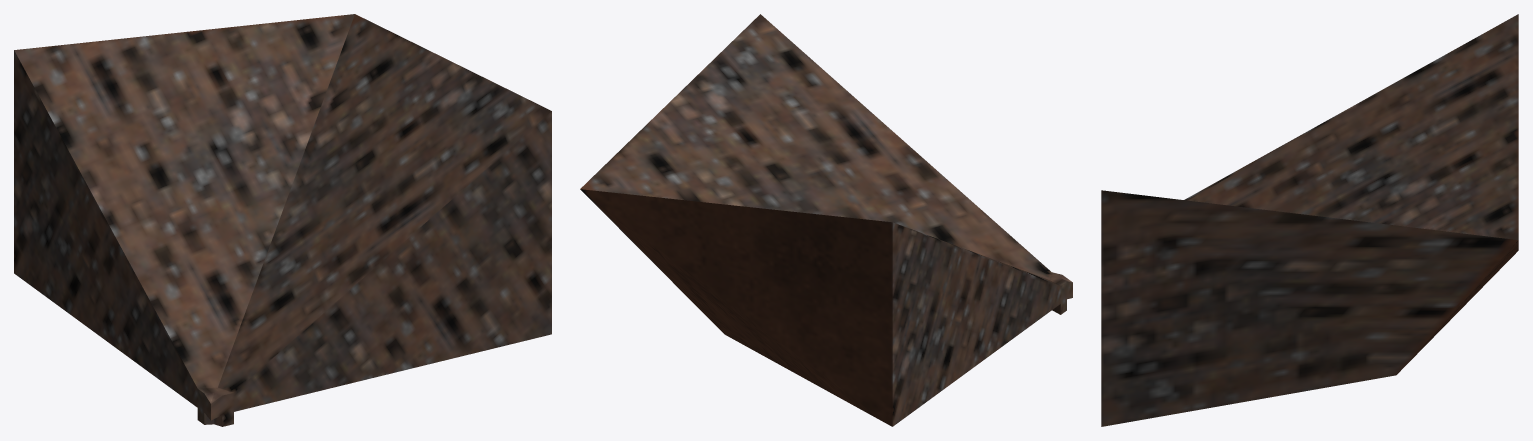
The model's file is L-shaped roof.fbx.
3 views of the same model, side by side, from view 1: azimuth 30°, elevation 25°; view 2: azimuth 150°, elevation 25°; view 3: azimuth 270°, elevation 25° (orthographic). The views are drawn at different scales.
Visible parts, largest first — view 1: Telhado em L; view 2: Telhado em L; view 3: Telhado em L.
Part boxes in pixels (bbox=[...]): Telhado em L: bbox=[14, 14, 551, 426]; Telhado em L: bbox=[580, 14, 1072, 426]; Telhado em L: bbox=[1101, 14, 1518, 426].
Size of the model in its own units: 305 by 201 by 305.
